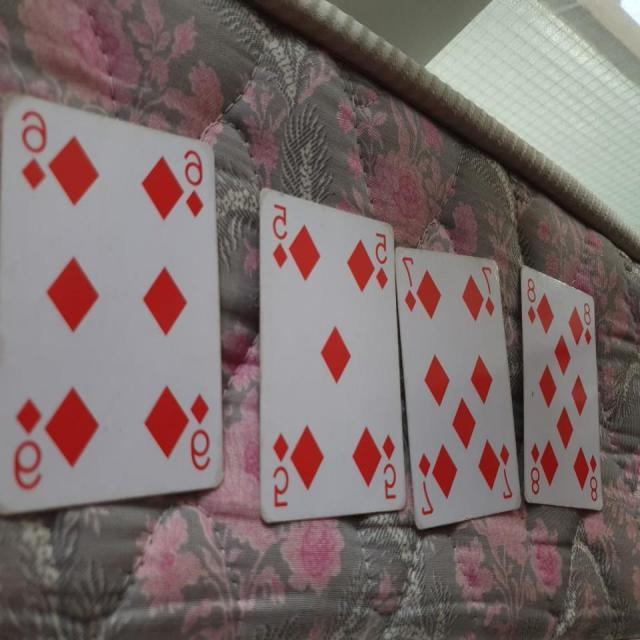5 of diamonds: (260, 184, 408, 526)
6 of diamonds: (0, 92, 226, 514)
7 of diamonds: (394, 244, 523, 536)
8 of diamonds: (521, 264, 604, 510)
